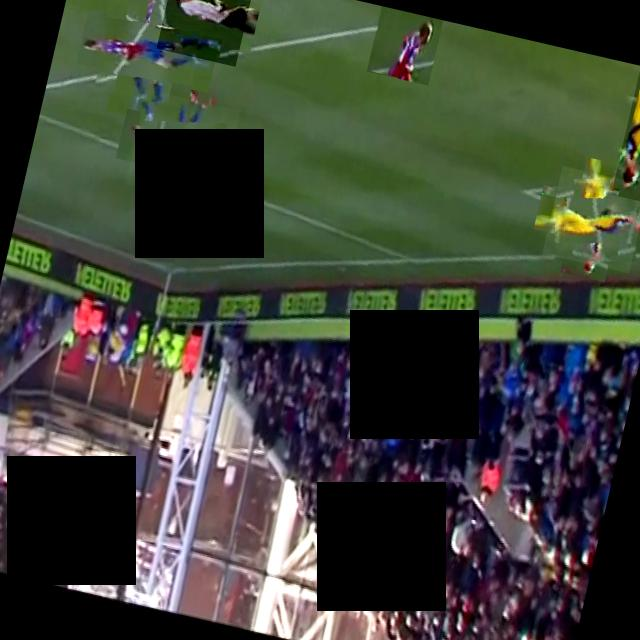referee: (156, 0, 253, 66)
soccer-player: (125, 89, 240, 205), (88, 0, 207, 109), (541, 165, 640, 273), (367, 6, 442, 85), (611, 65, 640, 208)
